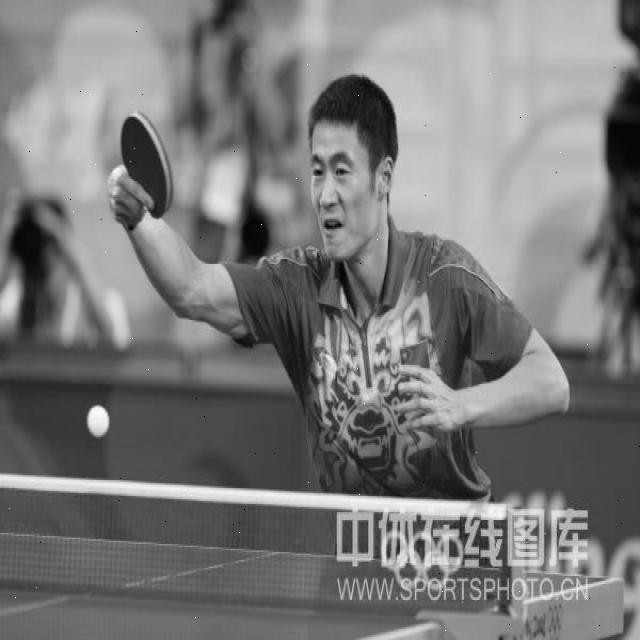ping-pong-ball: (85, 404, 110, 438)
